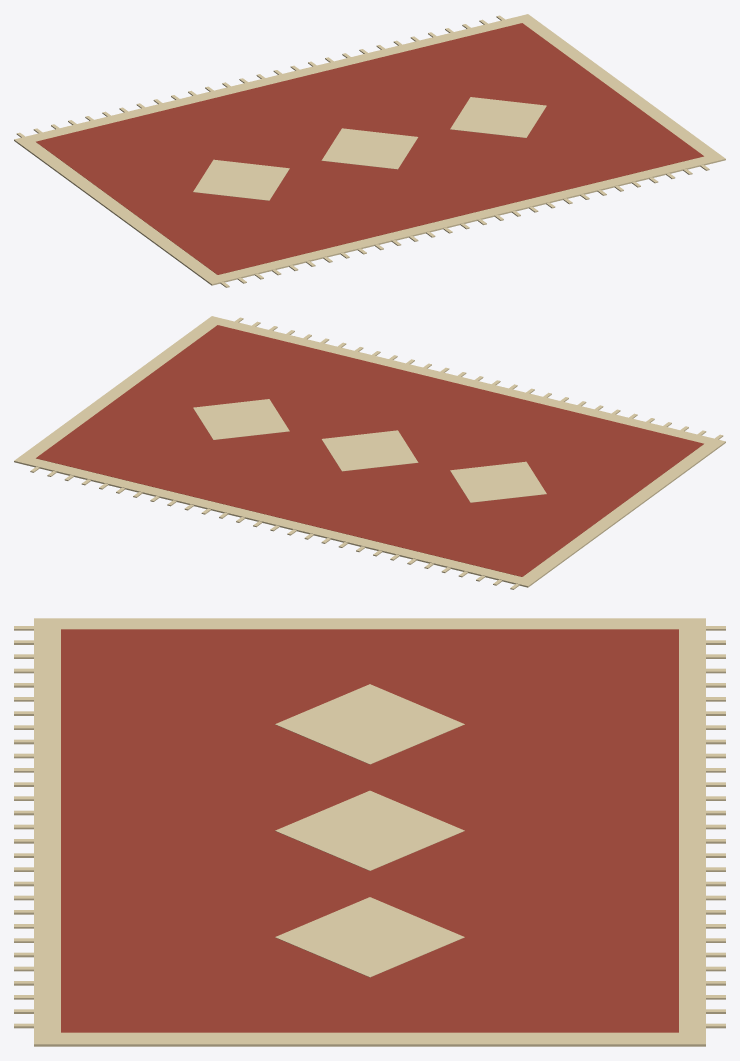
The model's file is rug_diamond.glb.
3 views of the same model, one above another, from view 1: azimuth 30°, elevation 25°; view 2: azimuth 150°, elevation 25°; view 3: azimuth 270°, elevation 25° (orthographic). The views are drawn at different scales.
Visible parts, largest first — view 1: rug_diamond; view 2: rug_diamond; view 3: rug_diamond.
Boxes of the visible parts, bbox=[...] form: rug_diamond: bbox=[14, 14, 725, 287]; rug_diamond: bbox=[14, 316, 725, 589]; rug_diamond: bbox=[14, 618, 725, 1046].
Bounding box in the file's own units: 3 × 0.01 × 2.12.
